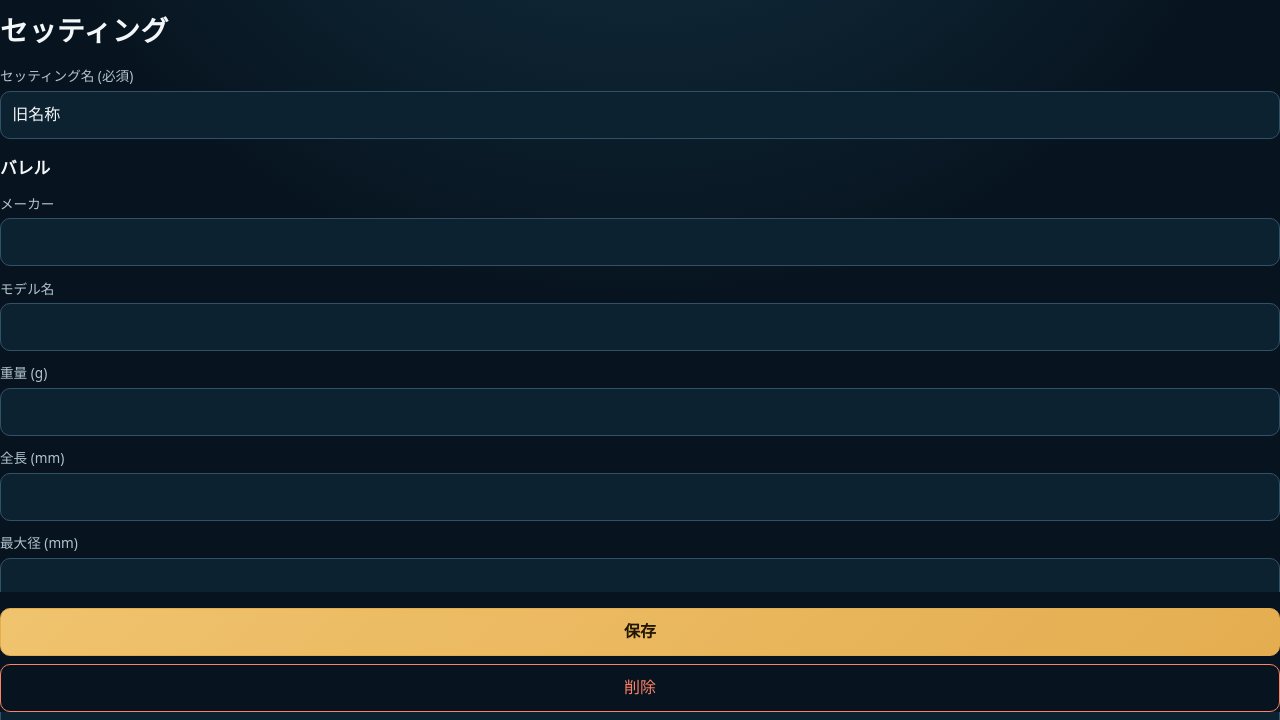
Test: EquipmentEditPage (セッティング保存) › 既存セッティングを編集して保存すると上書きされる
Replace the text in the field showing "旧名称" with "新名称" at (640, 114), box top-left (0, 90), bottom-right (1279, 138)
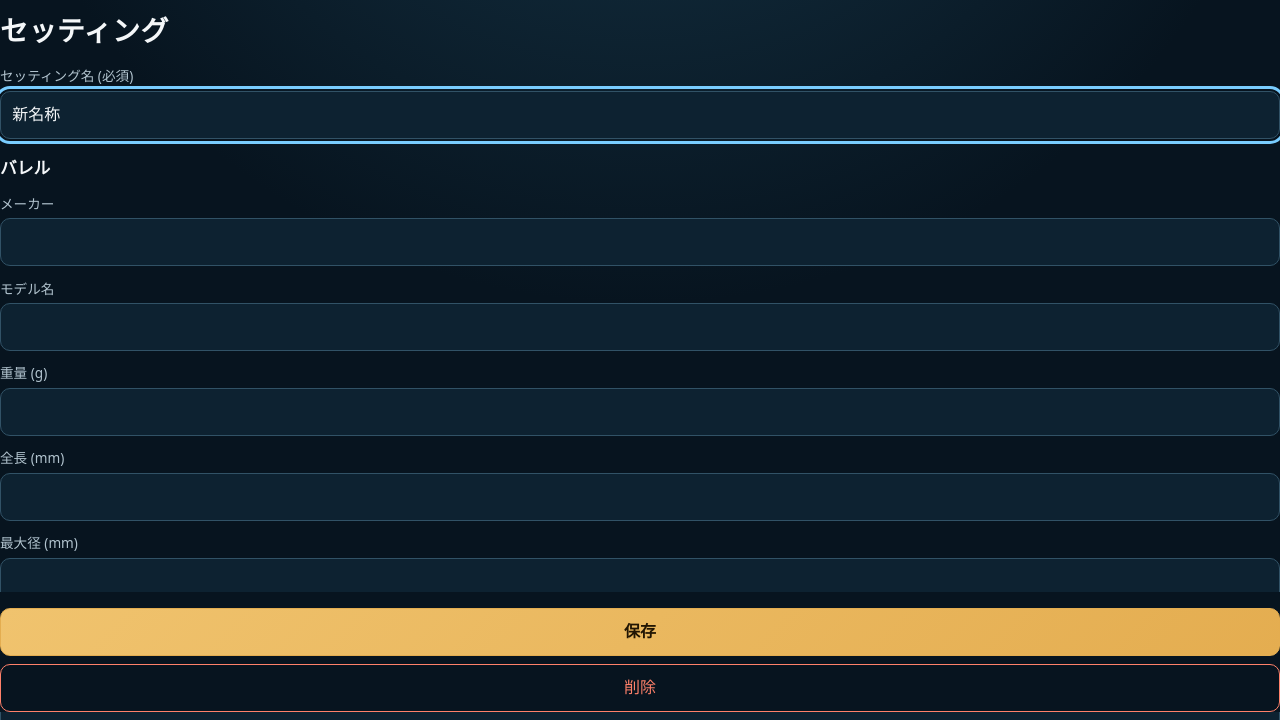
Click the button "保存" at (640, 632), box top-left (0, 608), bottom-right (1279, 656)
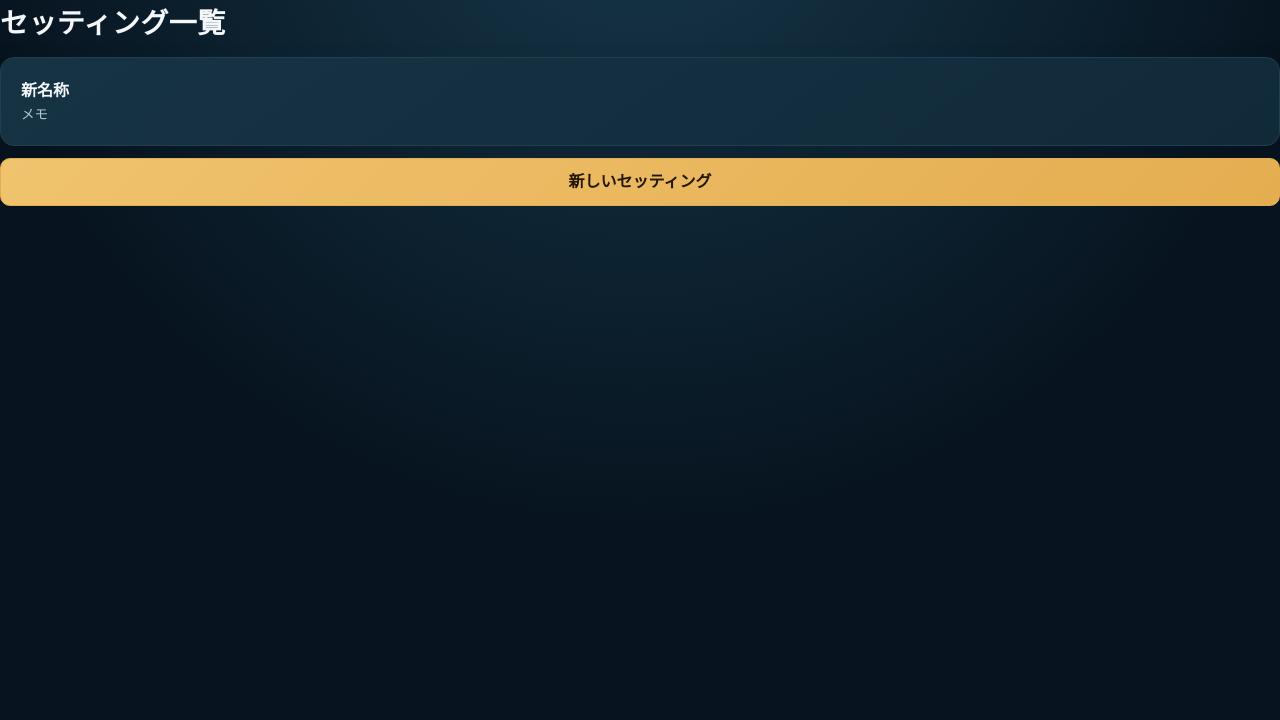
Now the text "新名称" is shown, box top-left (21, 79), bottom-right (69, 101)
